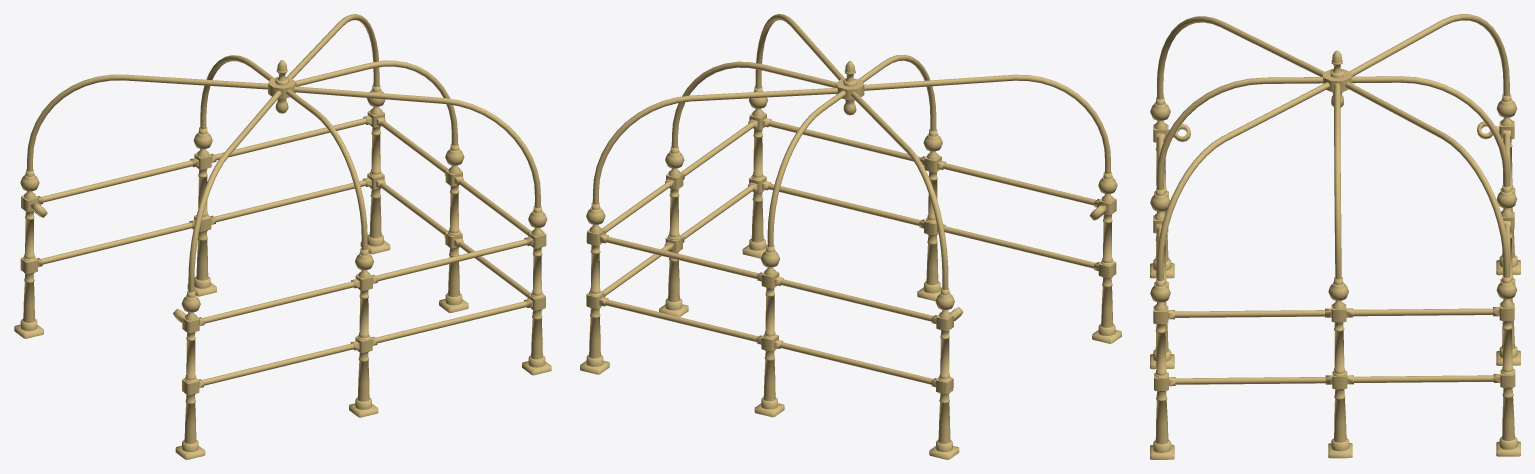
Rendered from HatchCovers_002_Mesh.fbx.
3 views of the same model, side by side, from view 1: azimuth 30°, elevation 25°; view 2: azimuth 150°, elevation 25°; view 3: azimuth 270°, elevation 25° (orthographic). The views are drawn at different scales.
Parts seen in each view (by area): view 1: HatchRails.002; view 2: HatchRails.002; view 3: HatchRails.002.
Part boxes in pixels (x1,y1,x2,y2): HatchRails.002: (14, 14, 551, 459); HatchRails.002: (580, 14, 1121, 459); HatchRails.002: (1150, 14, 1520, 459).
Bounding box in the file's own units: 185 × 141 × 151.
